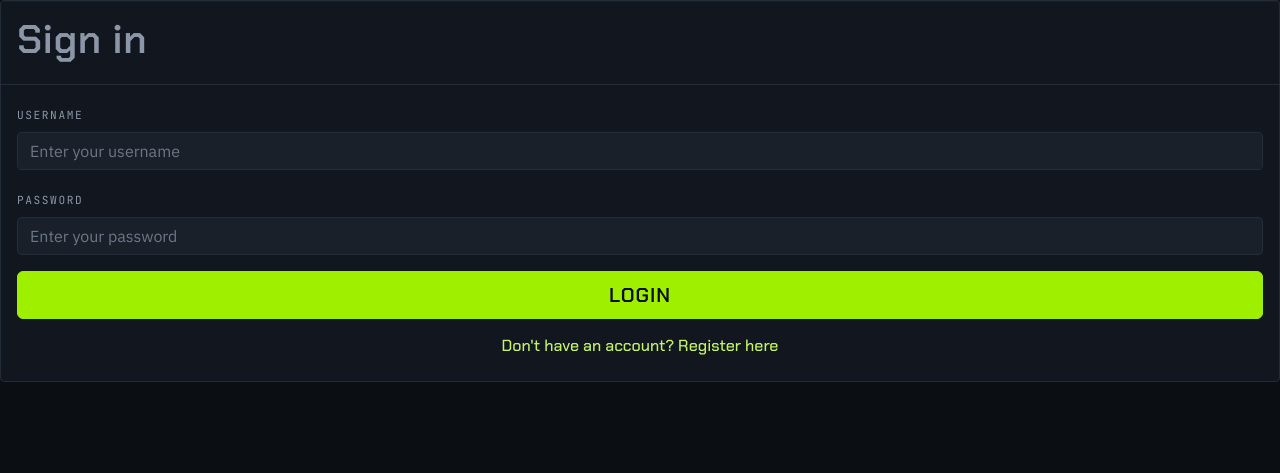
Scenario: LoginForm › keeps authentication failures visible
Step 1. Type "operator" into the field labelled "Username" → (640, 151), box x1=17 y1=132 x2=1263 y2=170
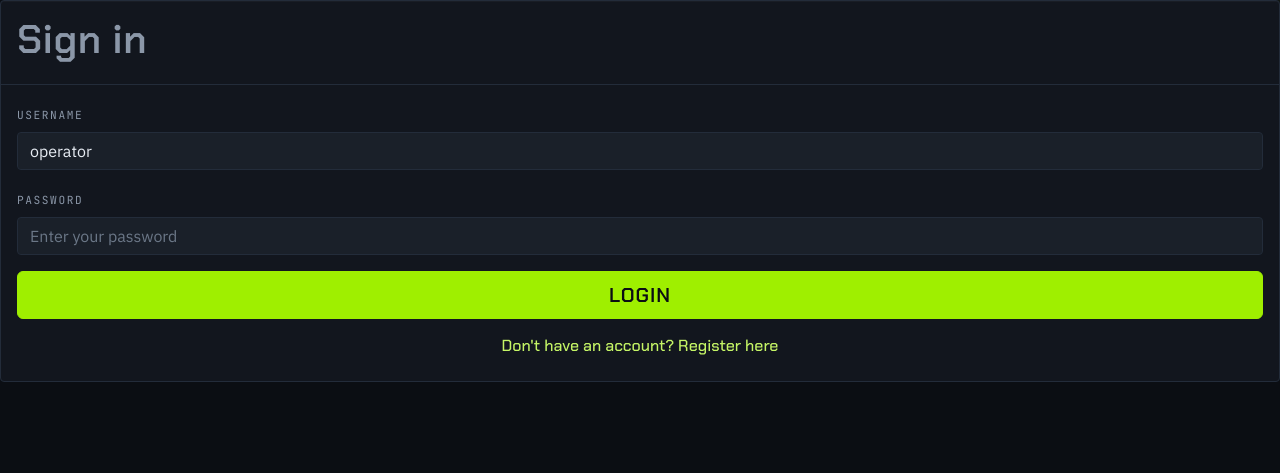
Step 2. Type "wrong" into the password field labelled "Password" → (640, 236), box x1=17 y1=217 x2=1263 y2=255
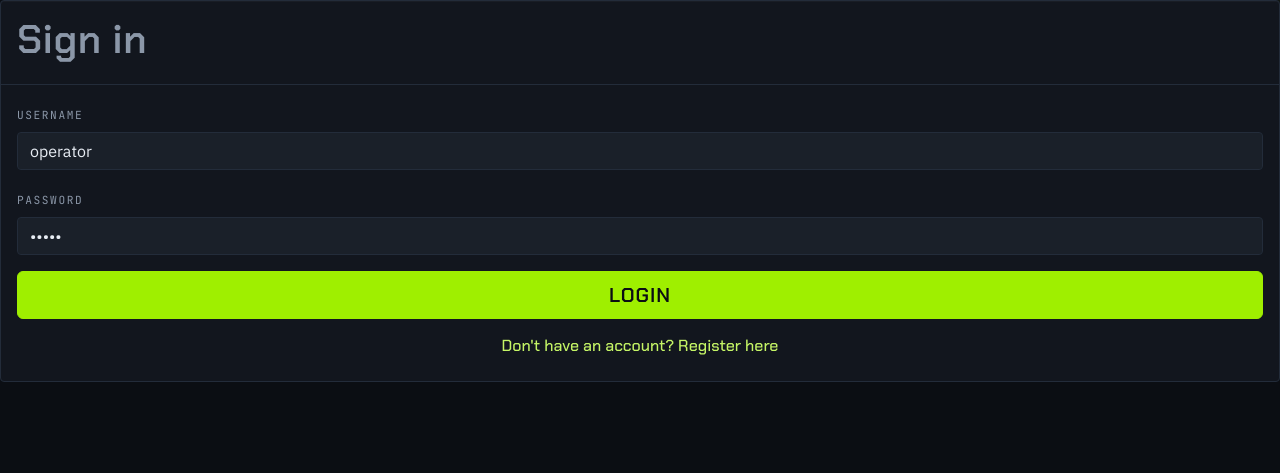
Step 3. Click the button "Login" → (640, 295), box x1=17 y1=271 x2=1263 y2=319
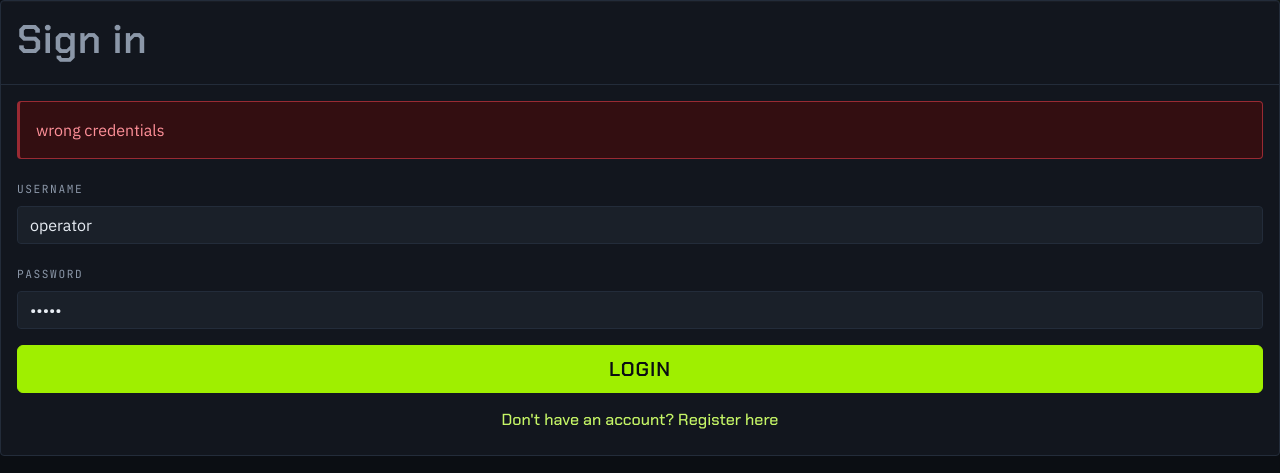
Expected: the text "wrong credentials" is shown, x1=17 y1=101 x2=1263 y2=159
